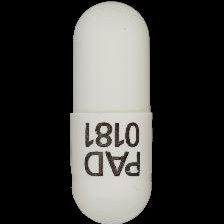0574-0181: (0, 0, 224, 224)
